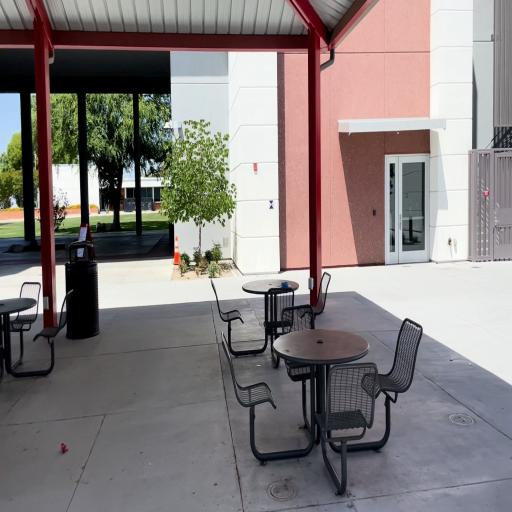target9: (269, 200, 274, 210)
